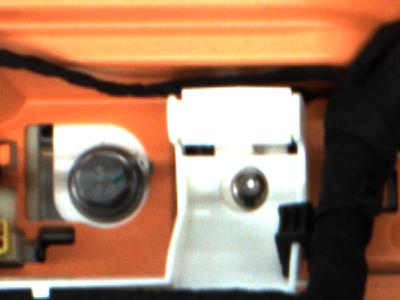nut_b: (64, 140, 149, 224)
